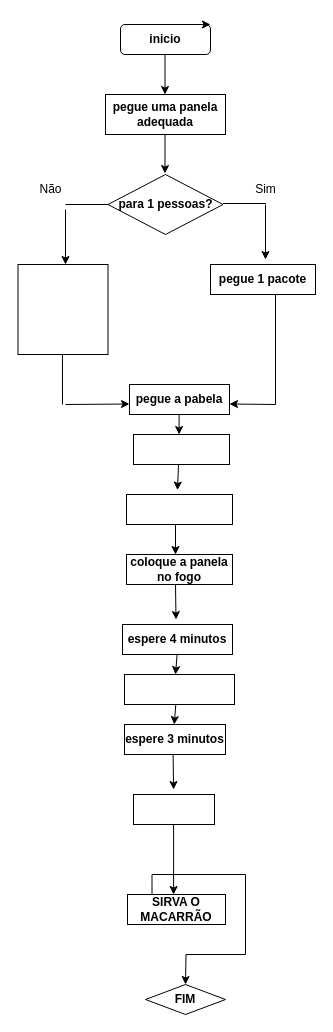
This 333x1032 diagram has some shape labels left out. Here are the shapes that lost their labels. From the top down, the centre of each, then its label:
At point 62,309: "pegue quantidade de pacotes igual ao numero de pessoas".
At point 181,449: "coloque a água".
At point 179,509: "acenda o fogo".
At point 179,689: "coloque o macarrão".
At point 173,809: "Apague o fogo".
